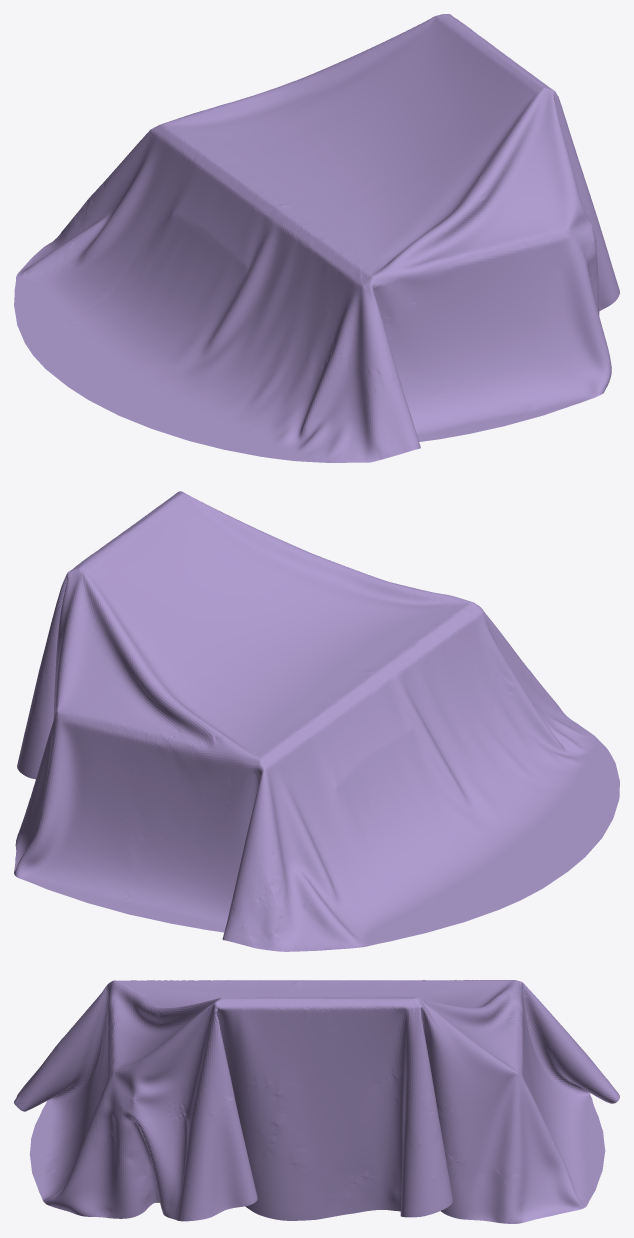
Rendered from level_4.glb.
The picture shows the model from 3 angles, top to bottom: view 1: azimuth 30°, elevation 25°; view 2: azimuth 150°, elevation 25°; view 3: azimuth 270°, elevation 25°; orthographic projection. The views are drawn at different scales.
Parts seen in each view (by area): view 1: world; view 2: world; view 3: world.
Boxes of the visible parts, x1,y1,x2,y2 form: world: (14, 14, 619, 462); world: (14, 491, 619, 951); world: (14, 980, 619, 1223).
Size of the model in its own units: 0.4179 by 0.1898 by 0.4704.
